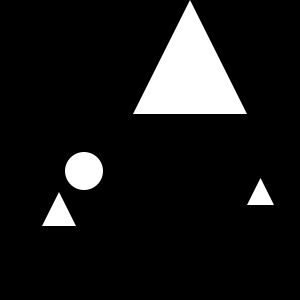rectangle: (65, 152, 103, 190)
triangle: (133, 0, 247, 114), (42, 192, 76, 226), (247, 178, 274, 205)
